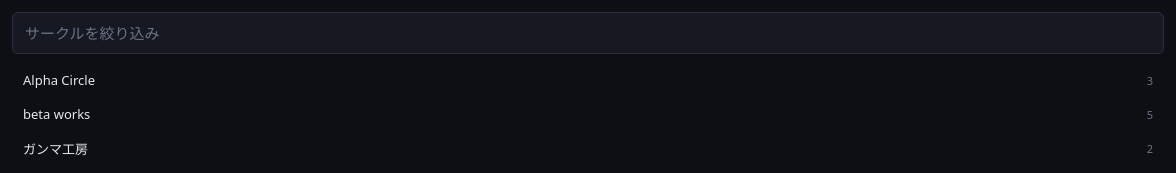
Test: CircleFacetPanel クライアントサイド絞り込み › 部分一致でフィルタされる
This screenshot has width=1176, height=173.
Expected: the text "Alpha Circle" is shown, [23, 71, 95, 89]
Type "works" into the search field with placeholder "サークルを絞り込み" at (588, 33), box [12, 12, 1164, 54]
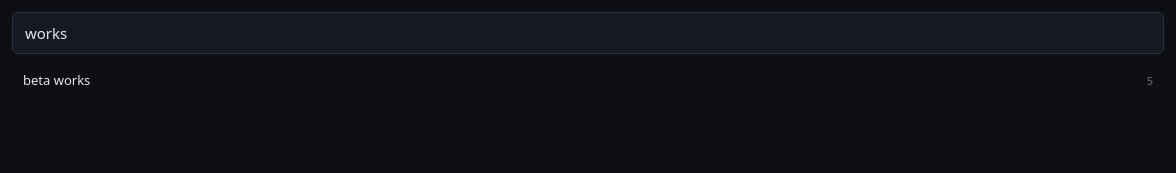
Expected: the text "beta works" is shown, [23, 71, 90, 89]
Result: the button "Alpha Circle" is gone
Result: the button "ガンマ工房" is gone
